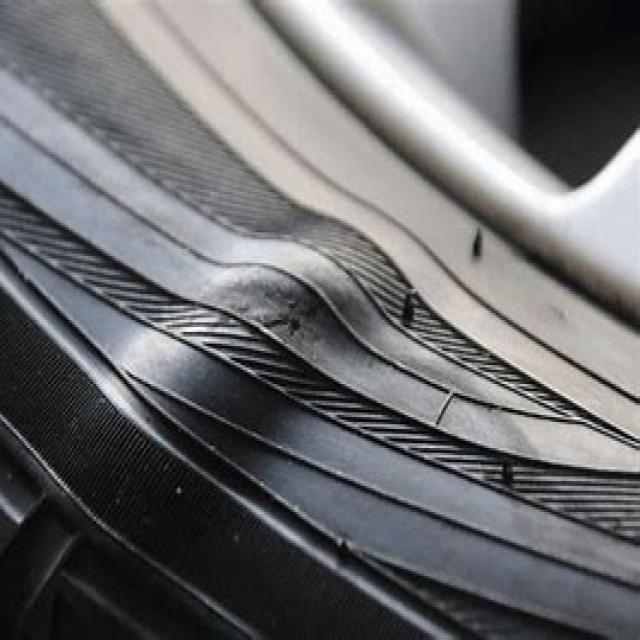Bulge: (59, 214, 419, 511)
